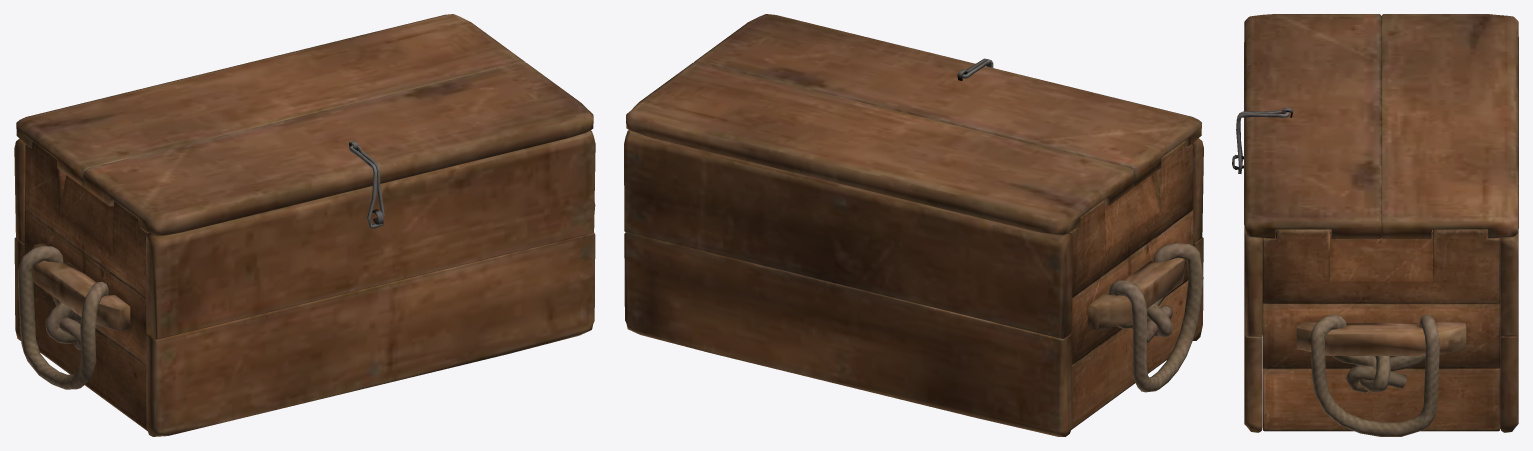
The model's file is wooden_crate_01.glb.
3 renders of one model, left to right at view 1: azimuth 30°, elevation 25°; view 2: azimuth 150°, elevation 25°; view 3: azimuth 270°, elevation 25°, orthographic. The views are drawn at different scales.
Visible parts, largest first — view 1: wooden_crate_01_lid; view 2: wooden_crate_01_lid; view 3: wooden_crate_01_lid.
Boxes of the visible parts, x1,y1,x2,y2 form: wooden_crate_01_lid: (14,14,595,436); wooden_crate_01_lid: (624,14,1203,436); wooden_crate_01_lid: (1232,14,1518,436).
Size of the model in its own units: 0.8253 by 0.3494 by 0.4084.
1 material, 1 textured.
